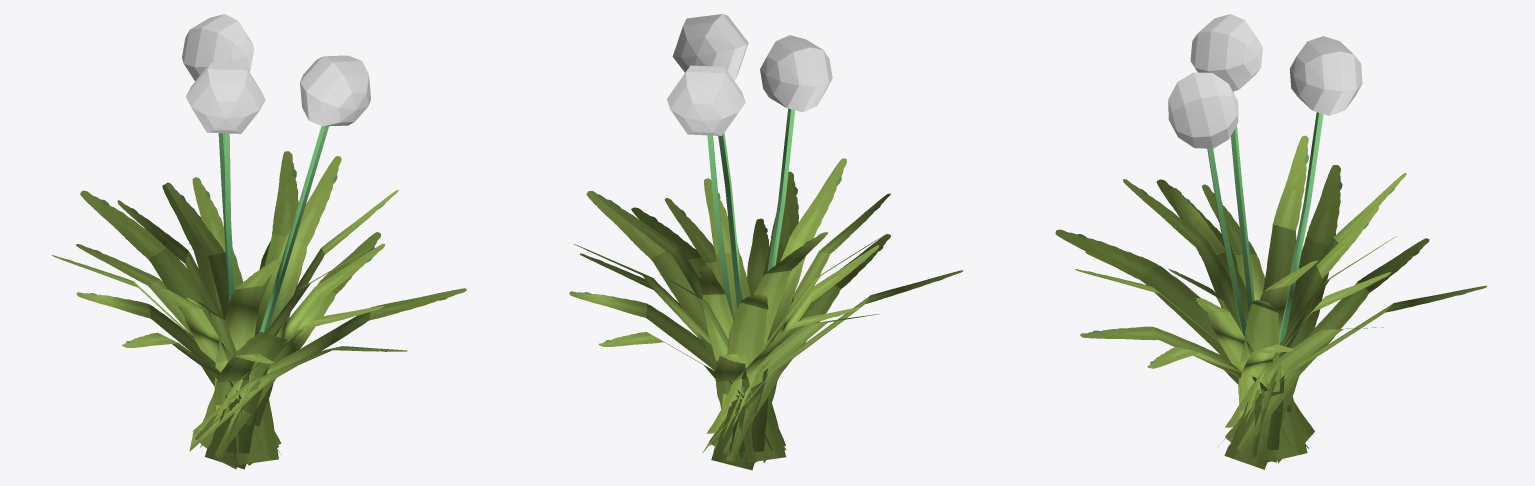
The model's file is GlowButtonHand.fbx.
The picture shows the model from 3 angles, left to right: view 1: azimuth 30°, elevation 25°; view 2: azimuth 150°, elevation 25°; view 3: azimuth 270°, elevation 25°; orthographic projection.
Visible parts, largest first — view 1: Leaves (3), Leaves (1), Leaves (2); view 2: Leaves (2), Leaves (1), Leaves (3); view 3: Leaves (2), Leaves (3), Leaves (1).
Part boxes in pixels (x1,y1,x2,y2): Leaves (3): (117, 55, 466, 469); Leaves (1): (76, 62, 384, 469); Leaves (2): (52, 14, 398, 465); Leaves (2): (569, 65, 879, 462); Leaves (1): (597, 35, 962, 470); Leaves (3): (574, 14, 890, 462); Leaves (2): (1123, 36, 1486, 469); Leaves (3): (1055, 72, 1390, 462); Leaves (1): (1075, 14, 1406, 462).
Bounding box in the file's own units: 1.51 × 1.49 × 1.61.
Materials: 2 (2 with a texture image).
